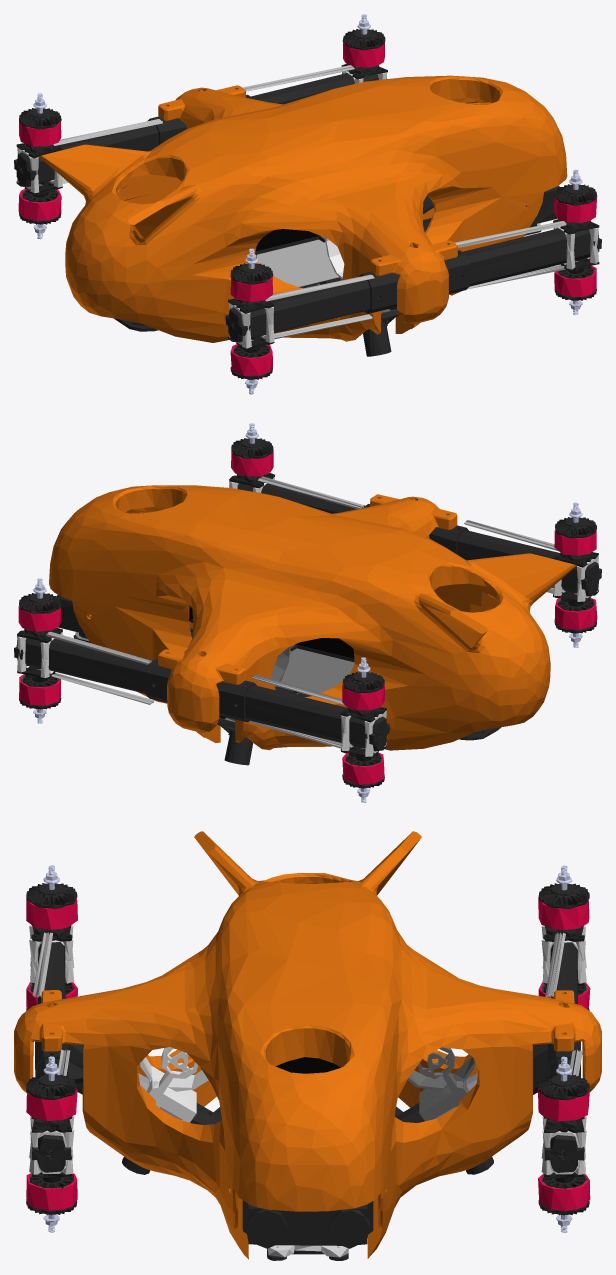
The picture shows the model from 3 angles, top to bottom: view 1: azimuth 30°, elevation 25°; view 2: azimuth 150°, elevation 25°; view 3: azimuth 270°, elevation 25°; orthographic projection. The views are drawn at different scales.
Parts seen in each view (by area): view 1: 浮材5(默认)显示状态 1; view 2: 浮材5(默认)显示状态 1; view 3: 浮材5(默认)显示状态 1.
Boxes of the visible parts, left/top/right/bottom form: 浮材5(默认)显示状态 1: left=14, top=14, right=601, bottom=394; 浮材5(默认)显示状态 1: left=14, top=423, right=601, bottom=802; 浮材5(默认)显示状态 1: left=14, top=831, right=601, bottom=1260.
Bounding box in the file's own units: 0.49 × 0.429 × 0.1812.
Materials: 15 (4 with a texture image).
